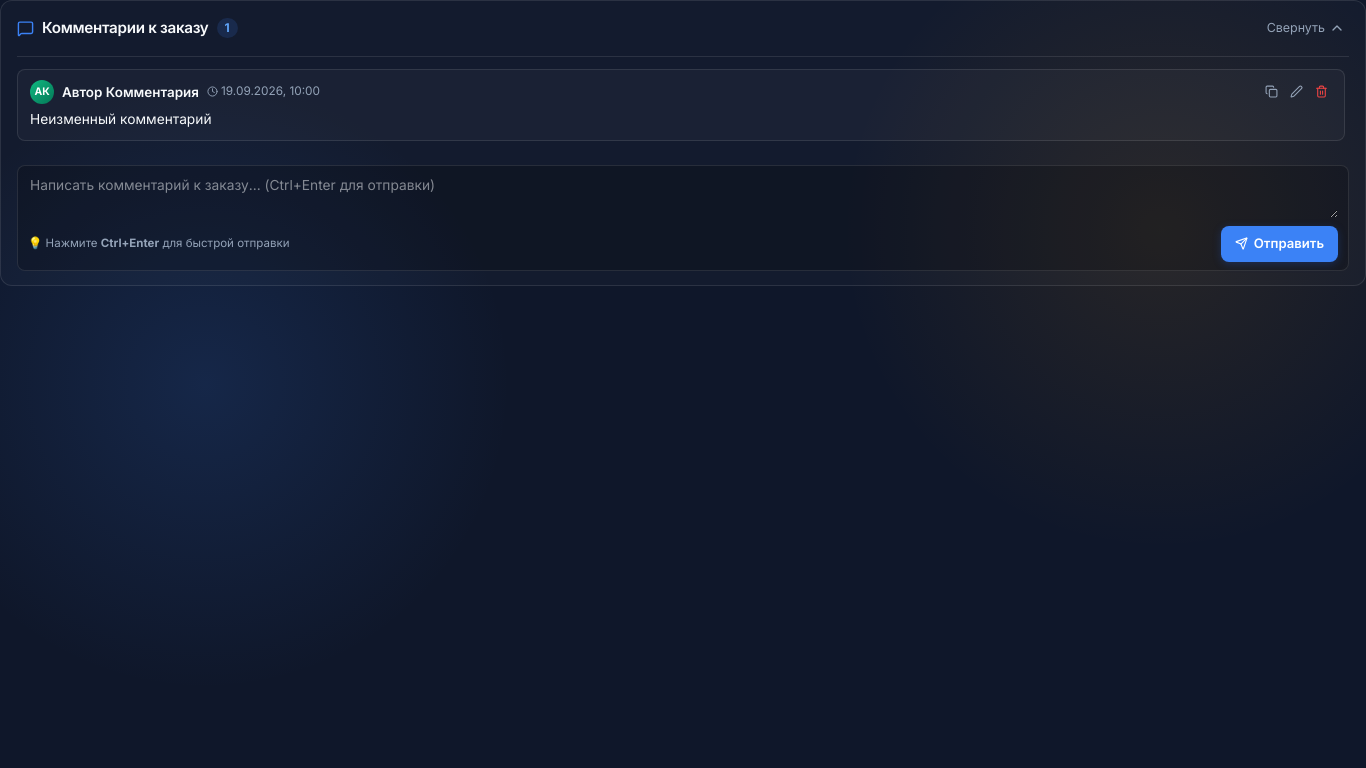
Scenario: OrderCommentsSection › allows author to cancel editing without changes
Expected: the text "Неизменный комментарий" is shown, [30,111,212,127]
Step 1. Click the button titled "Редактировать комментарий" → (1296,92), box [1286,81,1307,102]
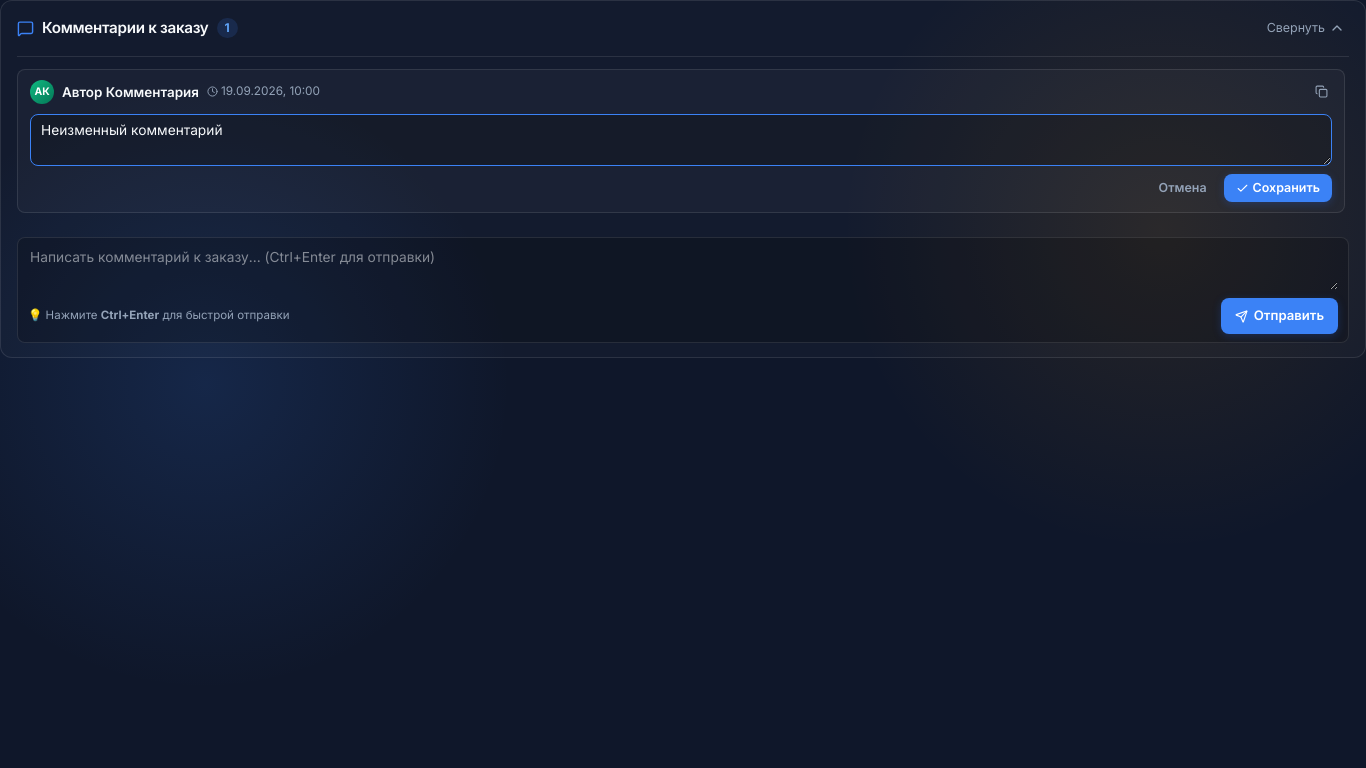
Step 2. Replace the text in the text box showing "Неизменный комментарий" with "Новый несохраненный текст" → (681,140), box [30,114,1332,166]
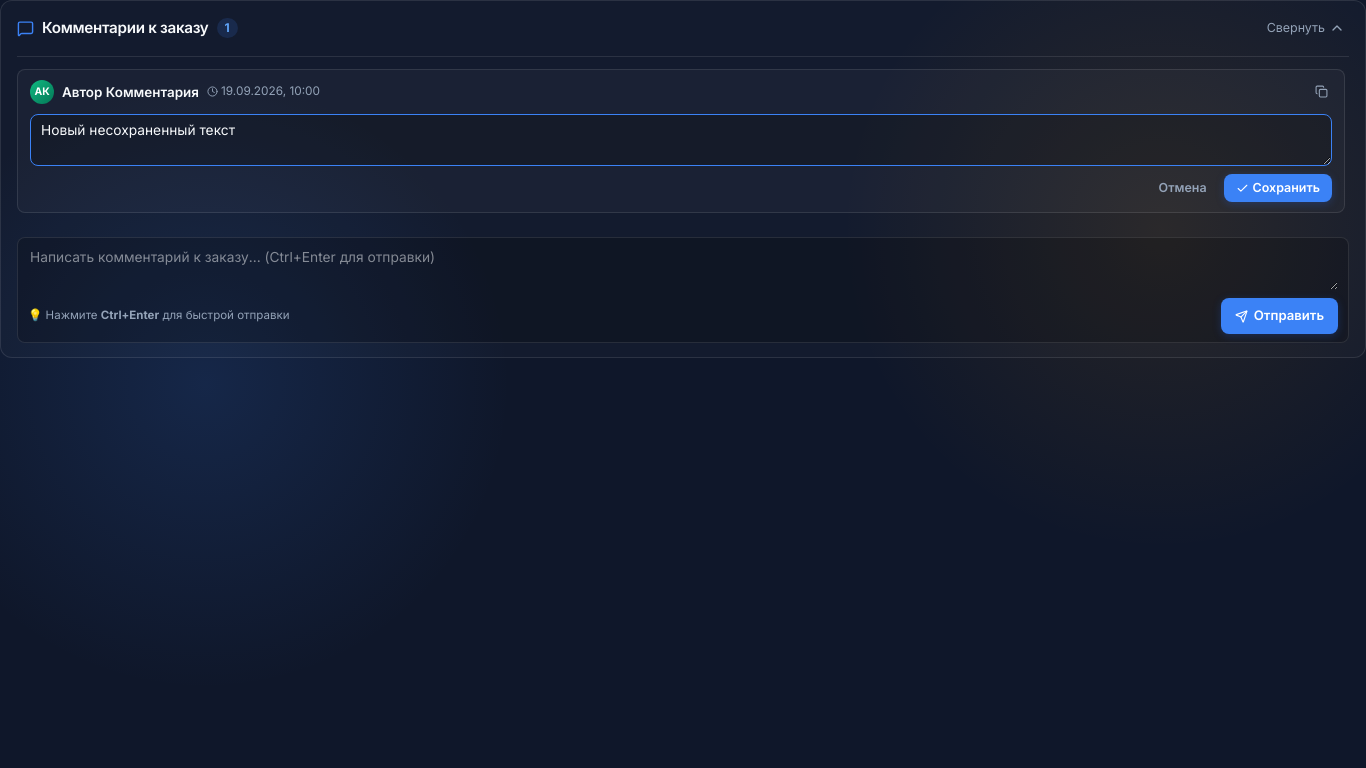
Step 3. Click the button "Отмена" → (1183,188), box [1148,174,1218,202]
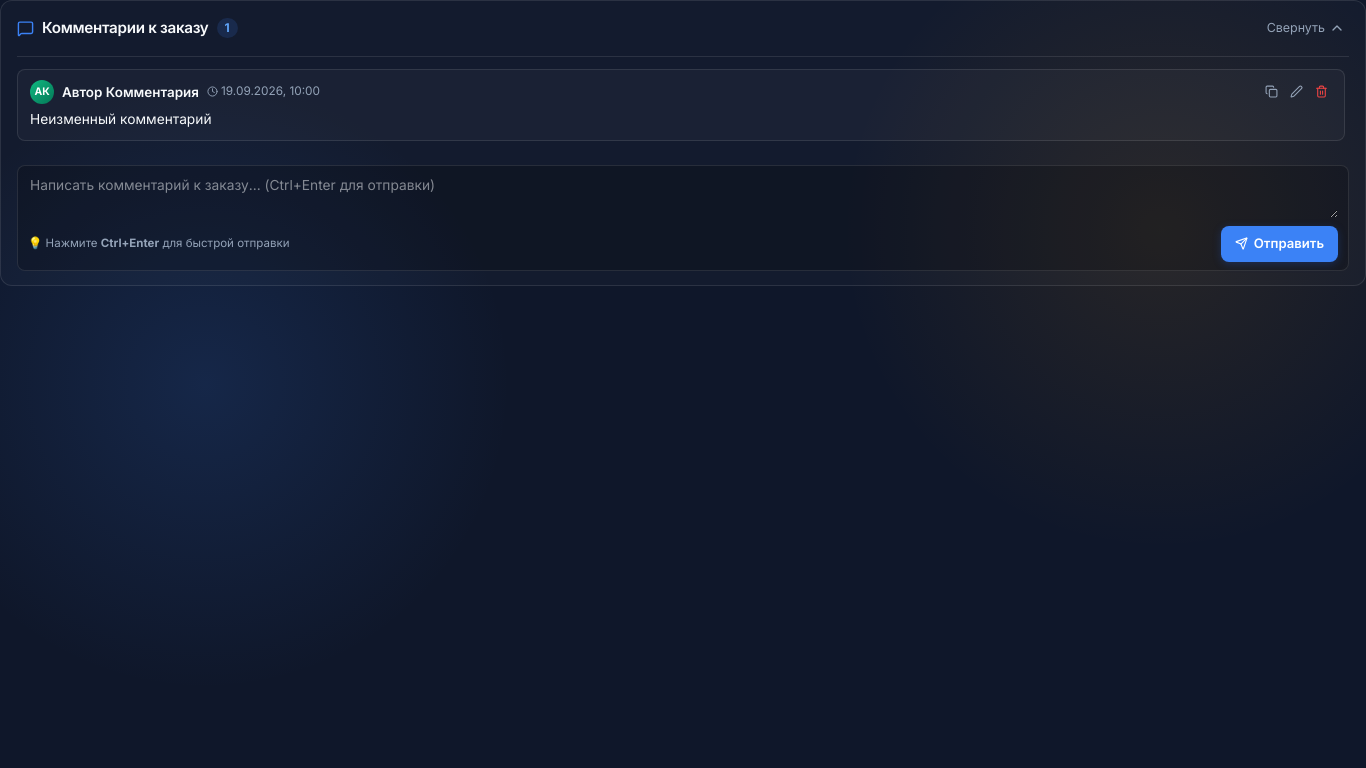
Expected: the field showing "Новый несохраненный текст" is not shown
Result: the text "Неизменный комментарий" is shown at [30,111,212,127]
